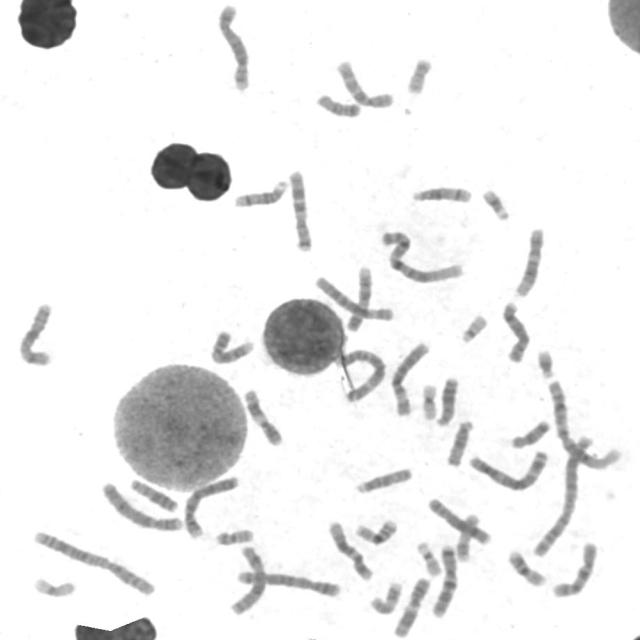A1: (543, 376, 623, 470), (378, 226, 466, 285)
A2: (28, 525, 157, 597), (529, 429, 596, 558)
A3: (464, 446, 550, 492), (333, 344, 388, 405)
B4: (97, 478, 184, 533), (179, 472, 240, 540)
B5: (233, 567, 344, 599), (214, 1, 252, 92)
C10: (332, 55, 395, 110), (548, 538, 600, 599)
C11: (240, 384, 284, 448), (389, 573, 432, 638)
C12: (324, 517, 374, 582), (510, 223, 546, 299)
C6: (310, 272, 398, 322), (386, 338, 431, 418)
C7: (284, 165, 314, 254), (427, 540, 460, 620)
C8: (423, 494, 493, 547), (497, 297, 532, 364)
C9: (342, 262, 375, 334), (206, 325, 256, 366)
D13: (126, 475, 179, 513), (433, 372, 461, 428)
D14: (230, 176, 289, 208), (408, 182, 474, 205)
D15: (351, 464, 414, 495), (442, 416, 475, 468)
E16: (503, 546, 548, 588), (350, 514, 400, 546)
E17: (452, 509, 482, 563), (366, 578, 404, 616)
E18: (507, 416, 552, 450), (312, 89, 362, 119)
F19: (29, 572, 78, 600), (417, 380, 439, 421)
F20: (402, 54, 434, 95), (211, 524, 256, 547)
G21: (478, 185, 512, 222), (532, 346, 557, 380)
G22: (413, 537, 443, 577), (456, 310, 489, 344)
X: (226, 542, 268, 617), (14, 298, 54, 368)
